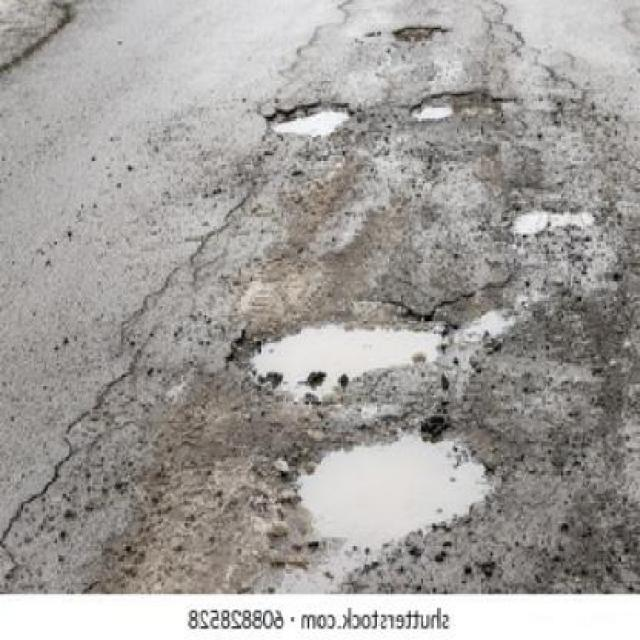Pothole: (208, 404, 519, 595), (215, 269, 489, 410), (258, 95, 366, 142), (408, 87, 512, 127), (382, 21, 451, 49)
